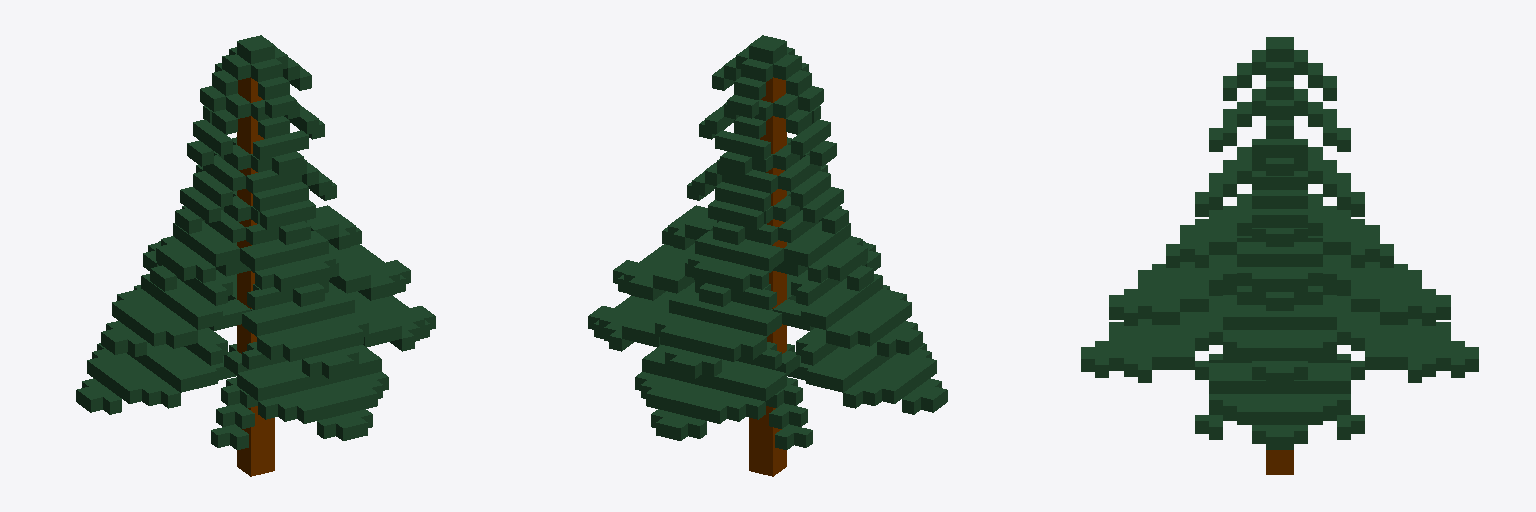
3 views of the same model, side by side, from view 1: azimuth 30°, elevation 25°; view 2: azimuth 150°, elevation 25°; view 3: azimuth 270°, elevation 25° (orthographic).
Visible parts, largest first — view 1: object 1; view 2: object 1; view 3: object 1.
Boxes of the visible parts, x1=… form: object 1: x1=76, y1=35, x2=435, y2=476; object 1: x1=588, y1=35, x2=947, y2=476; object 1: x1=1081, y1=37, x2=1478, y2=474.
Size of the model in its own units: 2.8 by 3.3 by 2.8.
1 materials, 1 textured.